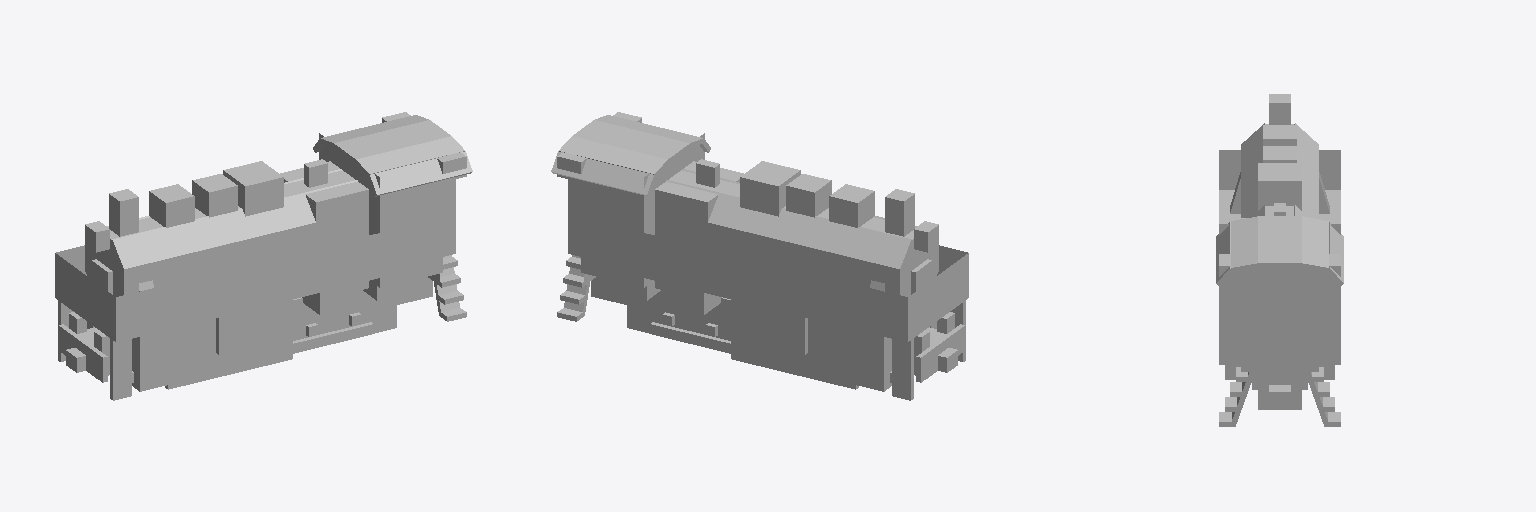
The model's file is ModelLocoEr_Ussr.obj.
The picture shows the model from 3 angles: view 1: azimuth 30°, elevation 25°; view 2: azimuth 150°, elevation 25°; view 3: azimuth 270°, elevation 25°; orthographic projection.
Visible parts, largest first — view 1: box1, box44, box36, box20, box34, box60, box48, box11, box37, box59, box2, box4 (+17 smaller); view 2: box5, box12, box3, box34, box21, box60, box23, box11, box13, box59, box2, box10 (+17 smaller); view 3: box15, box41, box2, box14, box59, box11, box3, box36, box10, box4, box6, box76 (+5 smaller).
Part boxes in pixels (x1,y1,x2,y2): box1: (116,233,379,336); box44: (165,299,292,389); box36: (101,180,357,277); box20: (380,180,442,277); box34: (85,223,315,295); box60: (280,161,368,247); box48: (293,284,396,340); box11: (55,253,115,336); box37: (132,329,173,391); box59: (223,161,283,216); box2: (334,120,450,163); box4: (356,136,464,176); box5: (644,233,907,336); box12: (731,299,858,389); box3: (666,180,918,279); box34: (708,223,938,295); box21: (581,180,643,277); box60: (655,161,743,247); box23: (627,284,730,340); box11: (908,253,968,336); box13: (850,329,891,391); box59: (740,161,800,216); box2: (573,120,689,163); box10: (559,136,667,176); box15: (1241,286,1318,366); box41: (1219,286,1340,354); box2: (1258,216,1301,267); box14: (1219,254,1340,285); box59: (1258,163,1301,210); box11: (1219,150,1340,189); box3: (1294,123,1318,217); box36: (1241,123,1265,217); box10: (1301,216,1328,272); box4: (1231,216,1257,272); box6: (1258,380,1301,409); box76: (1263,125,1296,145).
Size of the model in its own units: 4.81 by 2.31 by 1.45.